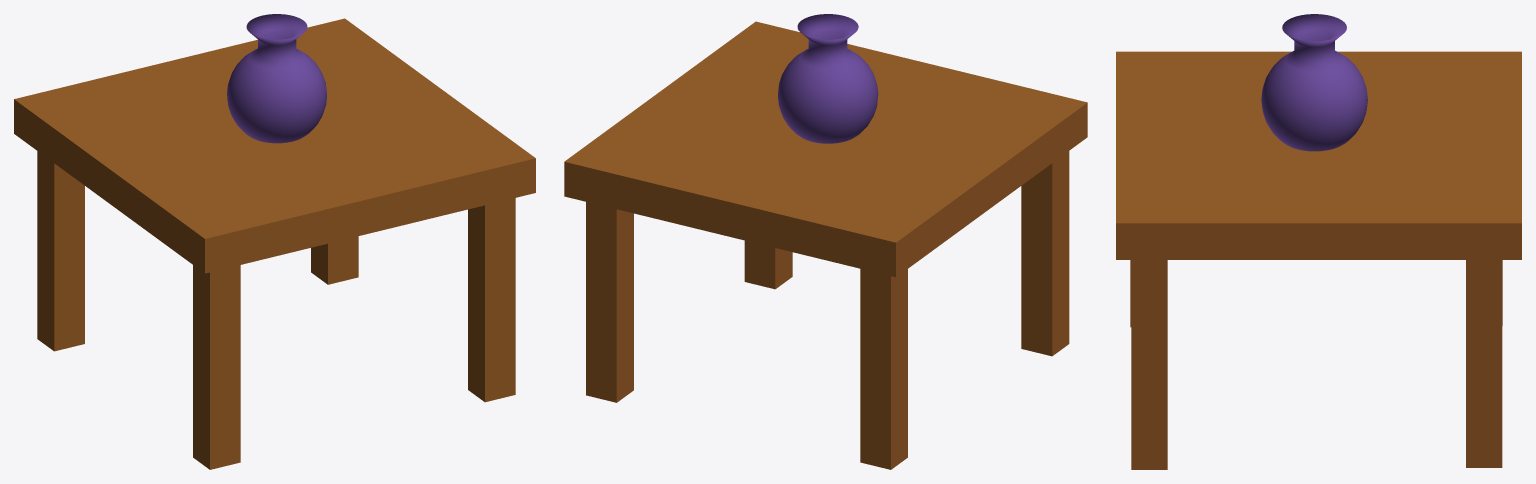
Rendered from Table.glb.
3 renders of one model, left to right at view 1: azimuth 30°, elevation 25°; view 2: azimuth 150°, elevation 25°; view 3: azimuth 270°, elevation 25°, orthographic. The views are drawn at different scales.
Parts seen in each view (by area): view 1: Floor, Sphere, Floor.001, Floor.002, Floor.003, Floor.004; view 2: Floor, Sphere, Floor.003, Floor.004, Floor.001, Floor.002; view 3: Floor, Sphere, Floor.002, Floor.004.
Boxes of the visible parts, left/top/right/bottom form: Floor: left=14, top=18, right=535, bottom=273; Sphere: left=227, top=14, right=326, bottom=143; Floor.001: left=193, top=265, right=240, bottom=469; Floor.002: left=468, top=198, right=515, bottom=402; Floor.003: left=37, top=151, right=84, bottom=351; Floor.004: left=311, top=236, right=358, bottom=284; Floor: left=564, top=21, right=1087, bottom=277; Sphere: left=778, top=14, right=878, bottom=143; Floor.003: left=860, top=269, right=907, bottom=469; Floor.004: left=586, top=202, right=633, bottom=402; Floor.001: left=1021, top=151, right=1069, bottom=356; Floor.002: left=744, top=240, right=792, bottom=289; Floor: left=1116, top=51, right=1521, bottom=259; Sphere: left=1261, top=14, right=1367, bottom=151; Floor.002: left=1131, top=260, right=1167, bottom=469; Floor.004: left=1466, top=260, right=1502, bottom=467.
Bounding box in the file's own units: 2 × 1.98 × 2.
